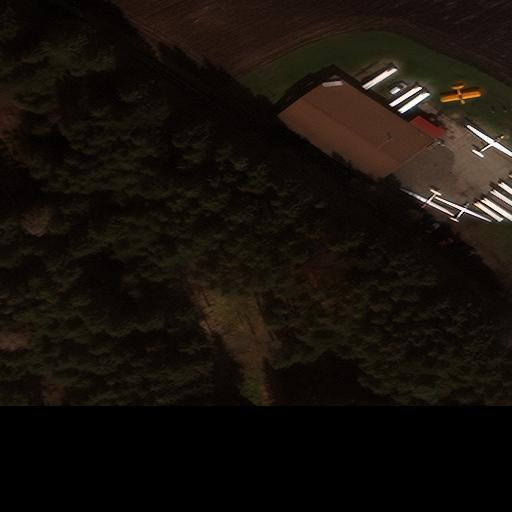Medium Civil Transport: (468, 124, 512, 157)
Small Civil Transport: (400, 189, 452, 216), (436, 196, 491, 220), (440, 85, 480, 103)
